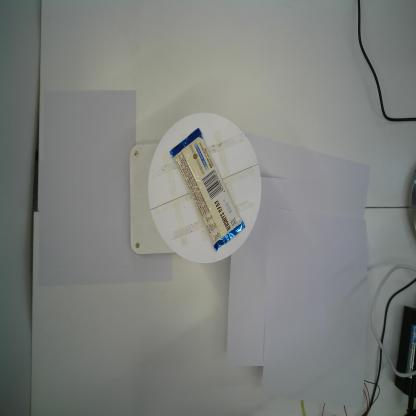Chocolate: (168, 126, 247, 254)
